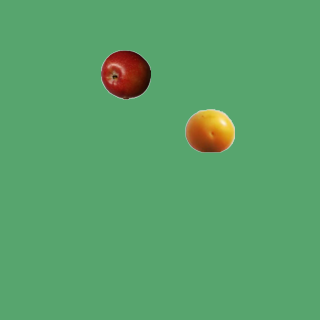Apple Braeburn: (100, 49, 150, 99)
Cherry Wax Yellow: (184, 105, 234, 155)
